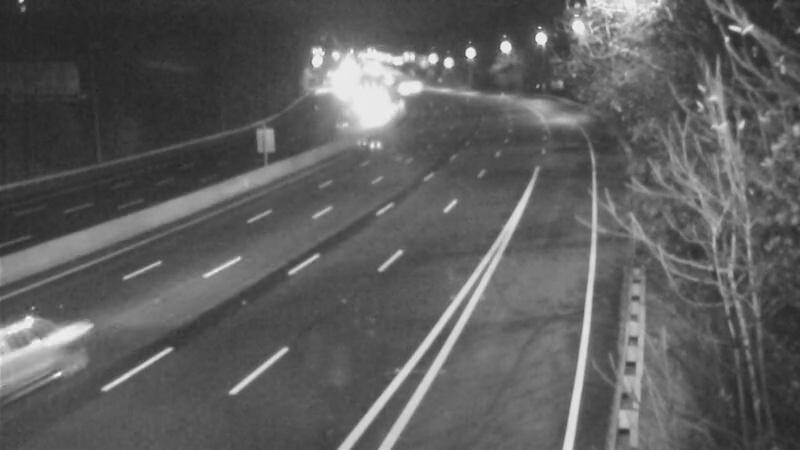vehicle: (1, 297, 106, 407)
